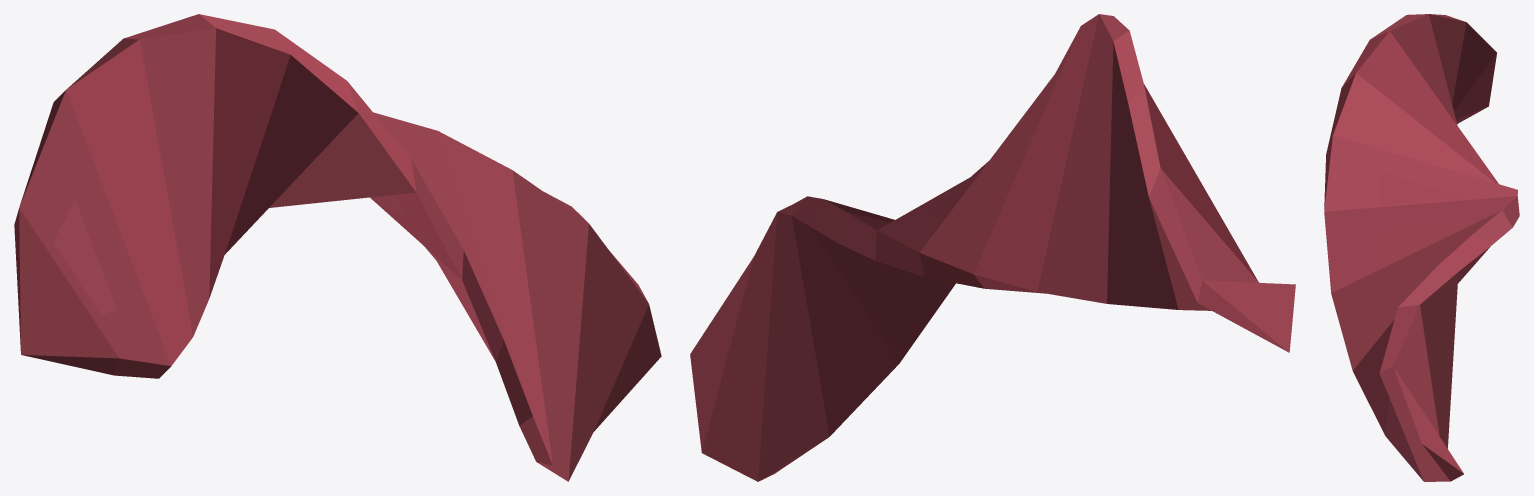
Rendered from Ribbon_Wisp.glb.
3 views of the same model, side by side, from view 1: azimuth 30°, elevation 25°; view 2: azimuth 150°, elevation 25°; view 3: azimuth 270°, elevation 25° (orthographic). The views are drawn at different scales.
Parts seen in each view (by area): view 1: RibbonWisp; view 2: RibbonWisp; view 3: RibbonWisp.
Part boxes in pixels (x1,y1,x2,y2): RibbonWisp: (14, 14, 661, 481); RibbonWisp: (690, 14, 1295, 481); RibbonWisp: (1324, 14, 1519, 481).
Bounding box in the file's own units: 0.85 × 0.7032 × 0.3522.
